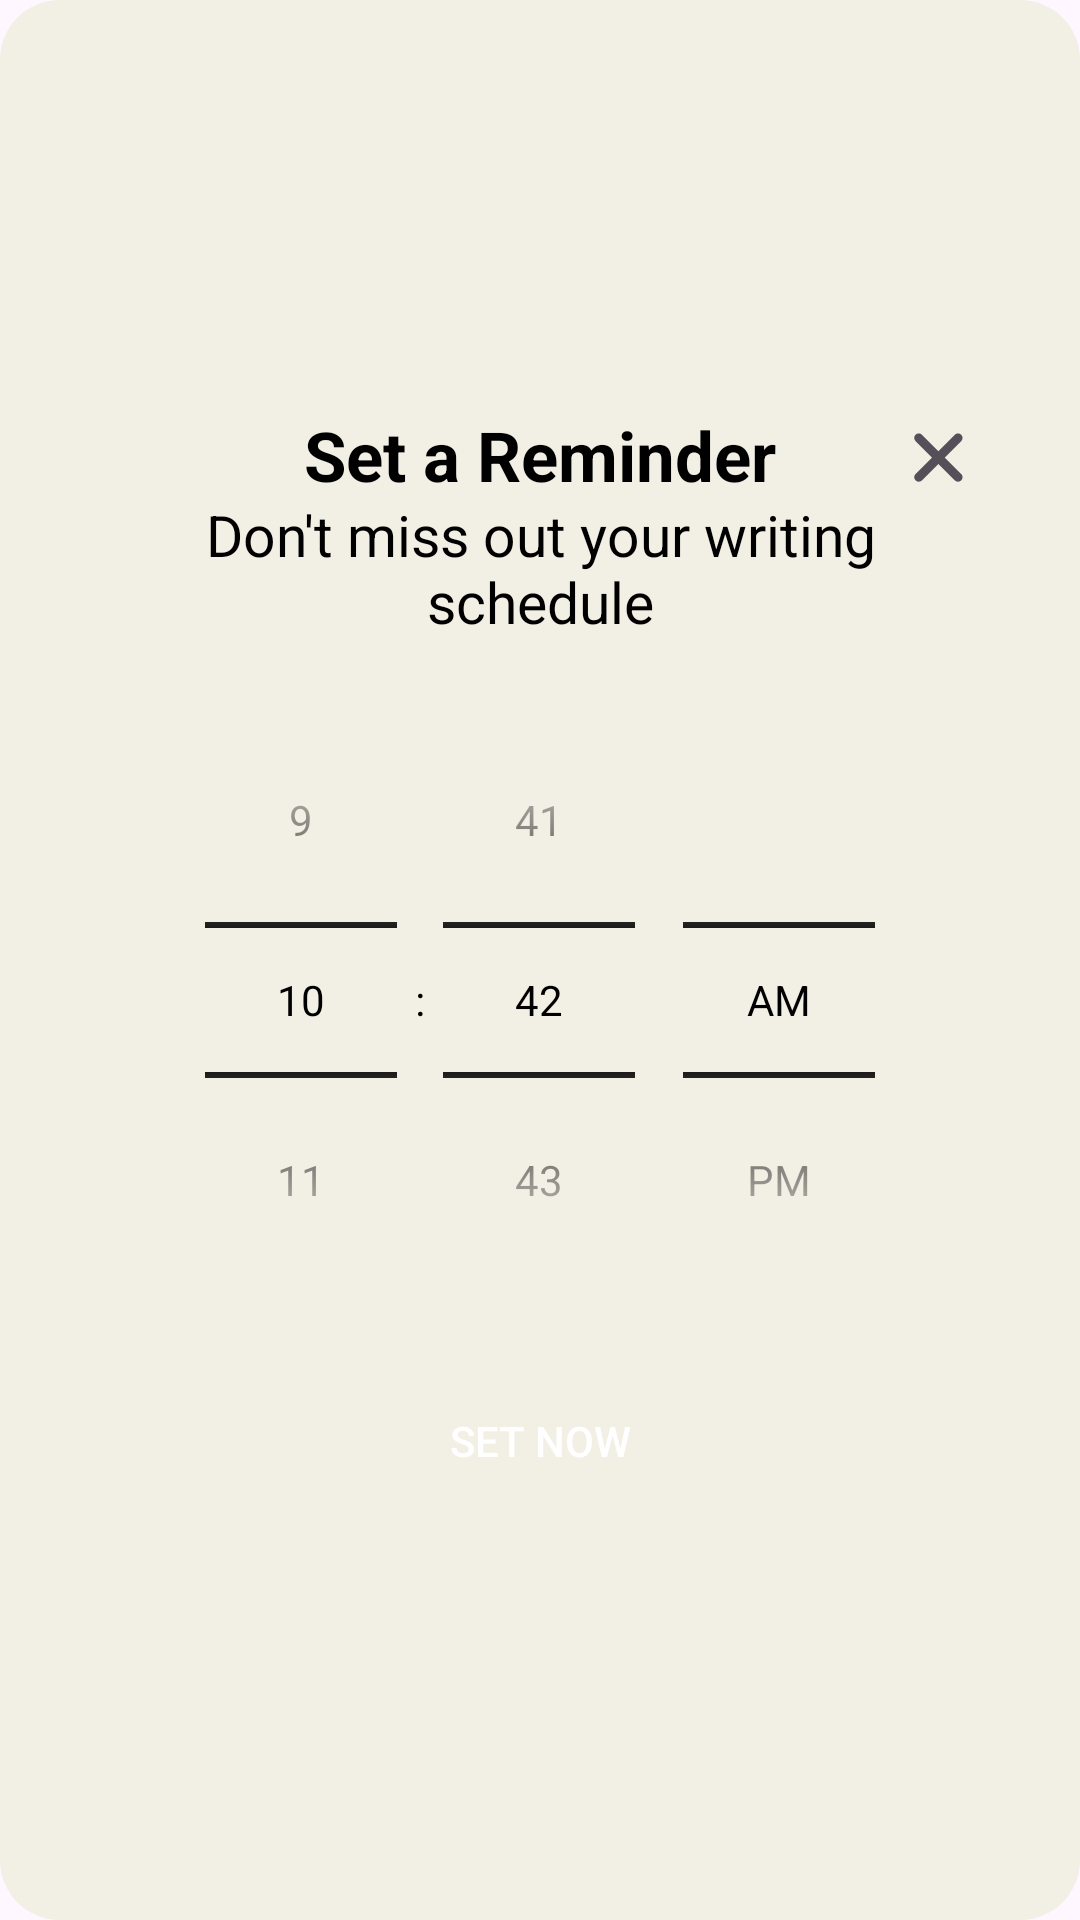

Named icons in this screenshot (1080px x 1920px) and their centers, point (x, y):
cross: point (938, 457)
